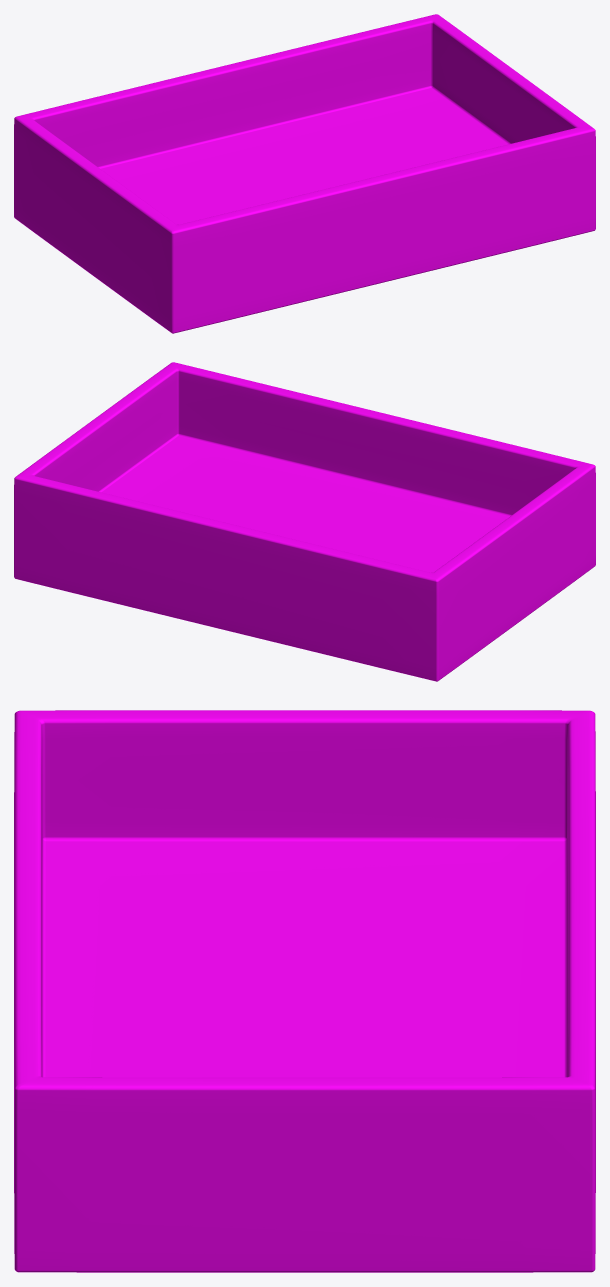
The model's file is Tray.fbx.
3 views of the same model, one above another, from view 1: azimuth 30°, elevation 25°; view 2: azimuth 150°, elevation 25°; view 3: azimuth 270°, elevation 25° (orthographic). The views are drawn at different scales.
Parts seen in each view (by area): view 1: Tray1_High; view 2: Tray1_High; view 3: Tray1_High.
Boxes of the visible parts, x1,y1,x2,y2 form: Tray1_High: (14,14,595,333); Tray1_High: (14,362,595,681); Tray1_High: (14,710,595,1272).
Size of the model in its own units: 1 by 0.2304 by 0.6492.
